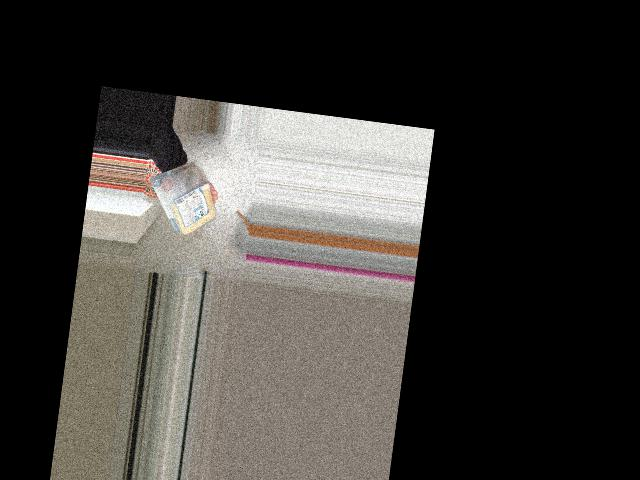cheese: (153, 164, 220, 237)
